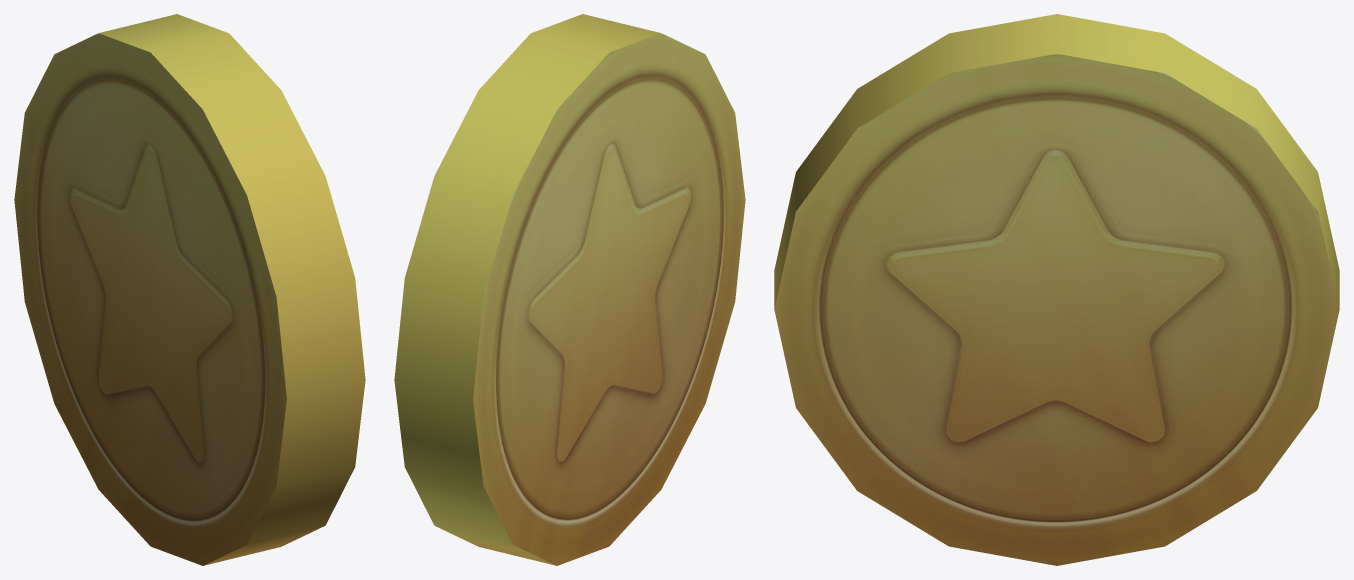
File: Coin.FBX
3 renders of one model, left to right at view 1: azimuth 30°, elevation 25°; view 2: azimuth 150°, elevation 25°; view 3: azimuth 270°, elevation 25°, orthographic. The views are drawn at different scales.
Parts seen in each view (by area): view 1: Cylinder001; view 2: Cylinder001; view 3: Cylinder001.
Boxes of the visible parts, <box> form: Cylinder001: <box>14,14,365,565</box>; Cylinder001: <box>394,14,745,565</box>; Cylinder001: <box>774,14,1339,565</box>.
Size of the model in its own units: 3 by 18.02 by 18.02.
1 material, 1 textured.
